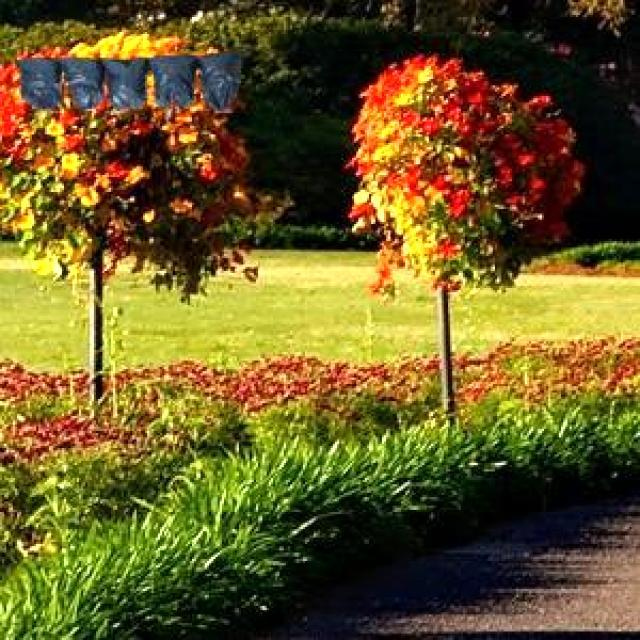Garbage_Bag: (12, 48, 246, 108)
